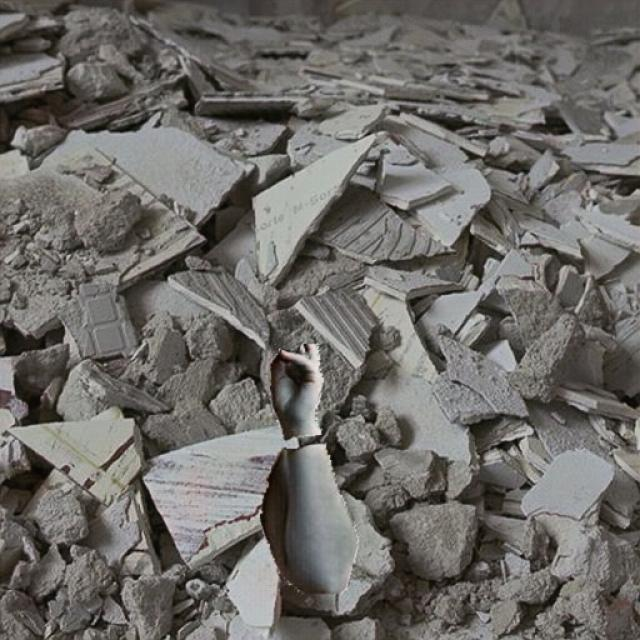Person in Rubble: (260, 343, 358, 592)
